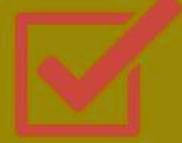CheckBox: (1, 1, 181, 142)
